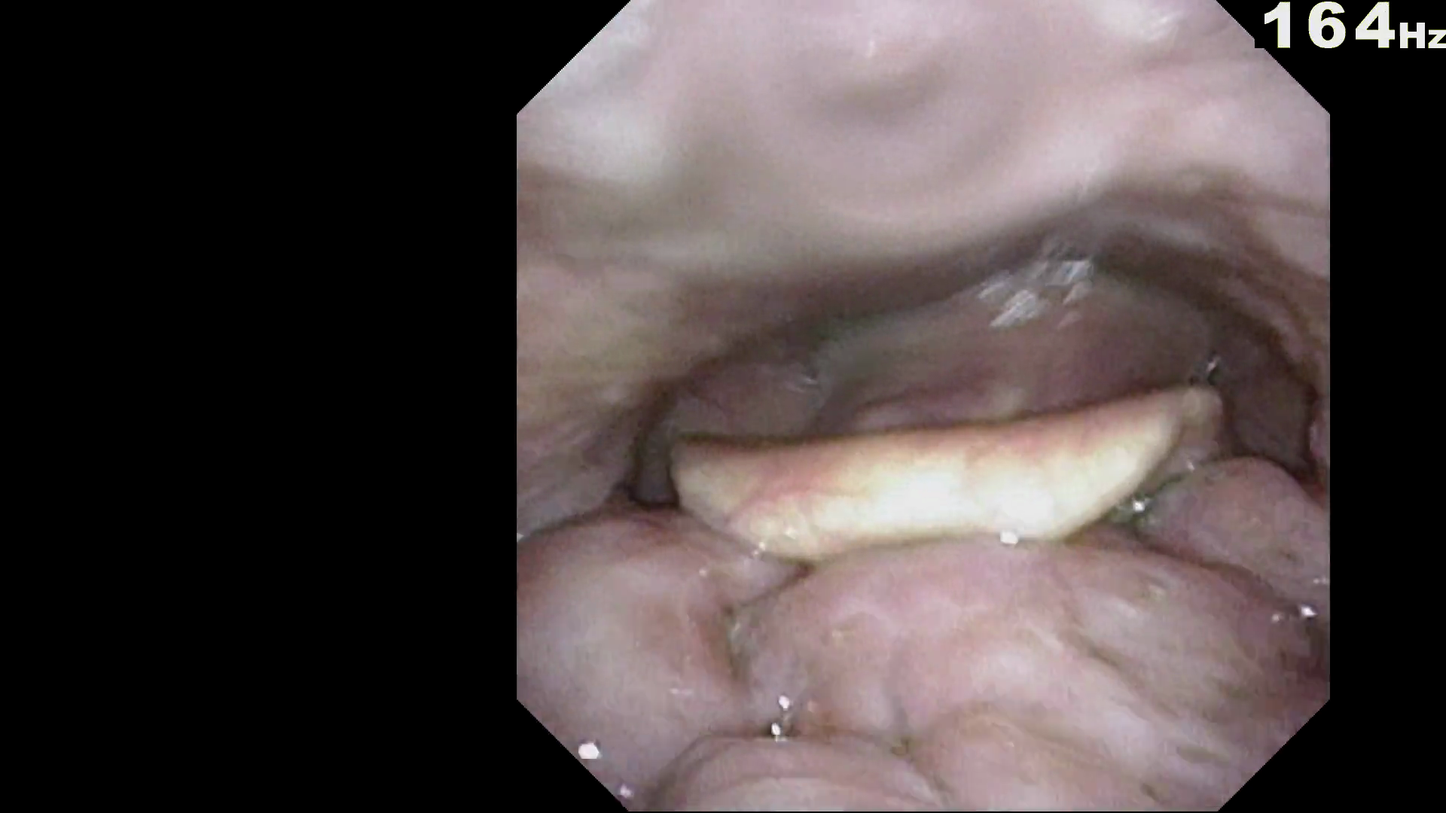epiglottis: (684, 426, 1201, 570)
